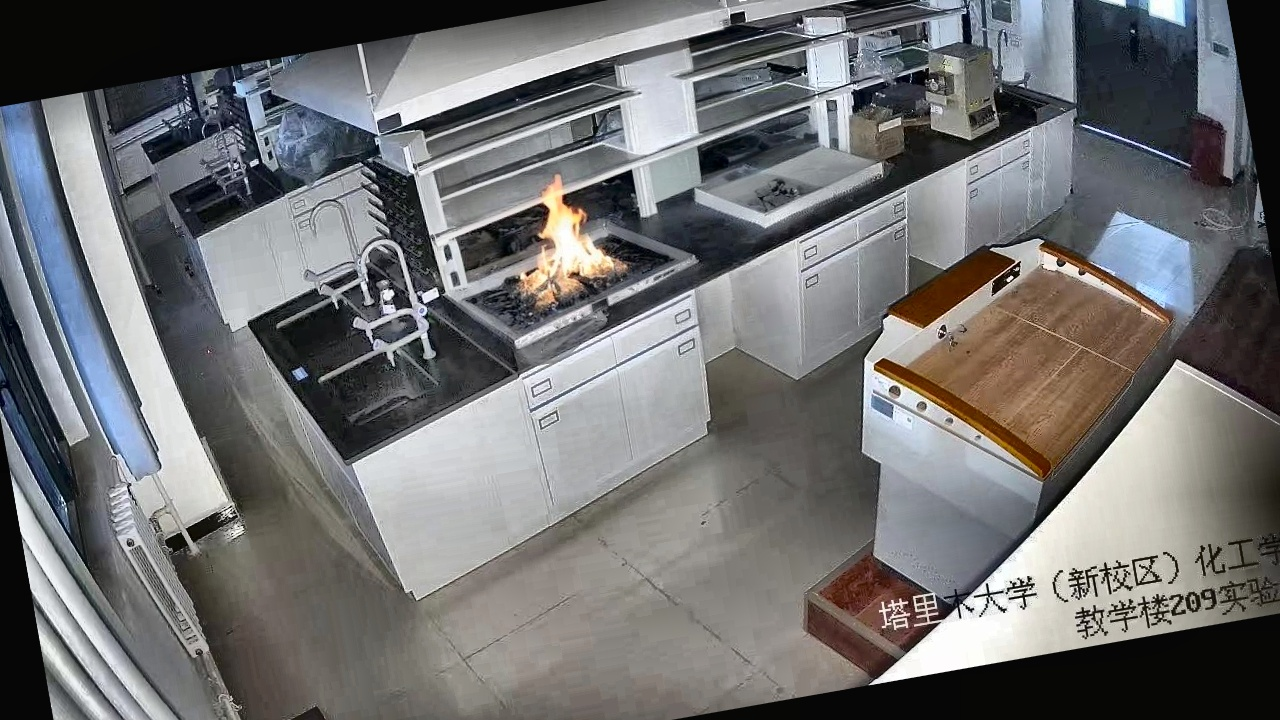fire: (500, 166, 655, 344)
